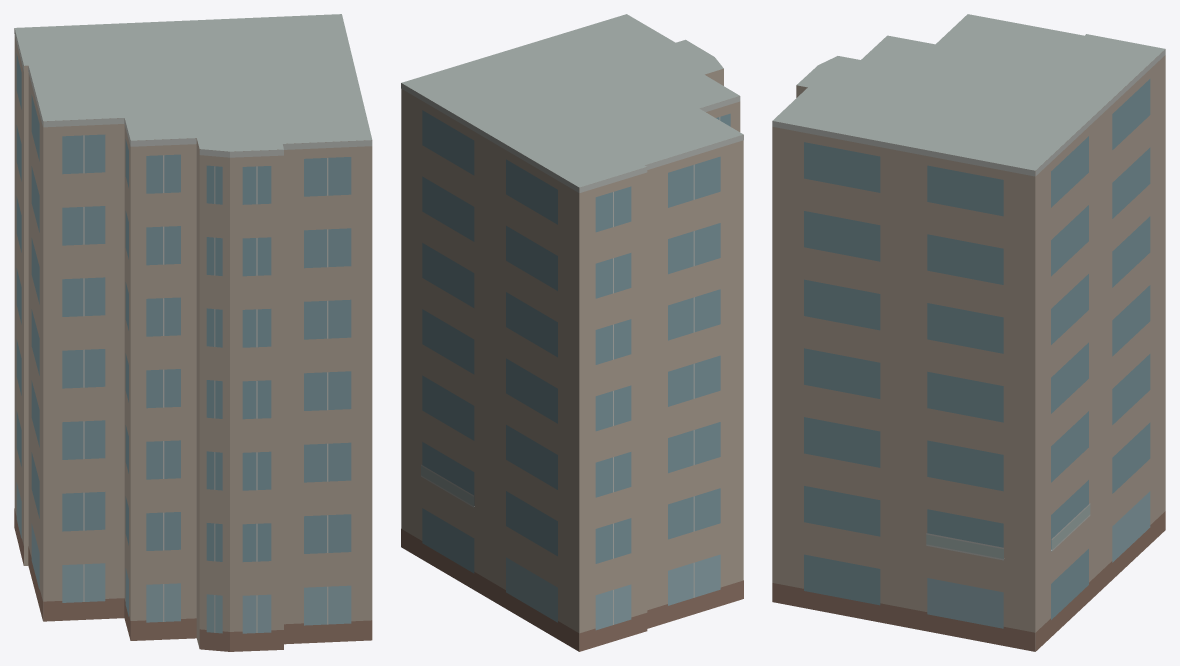
File: survey-upis-33010405.glb
3 views of the same model, side by side, from view 1: azimuth 30°, elevation 25°; view 2: azimuth 150°, elevation 25°; view 3: azimuth 270°, elevation 25° (orthographic). The views are drawn at different scales.
Parts seen in each view (by area): view 1: survey-upis-33010405.tmp; view 2: survey-upis-33010405.tmp; view 3: survey-upis-33010405.tmp.
Part boxes in pixels (x1,y1,x2,y2): survey-upis-33010405.tmp: (14, 14, 372, 651); survey-upis-33010405.tmp: (401, 14, 743, 651); survey-upis-33010405.tmp: (772, 14, 1165, 651).
Size of the model in its own units: 14.05 by 20.1 by 14.9.
